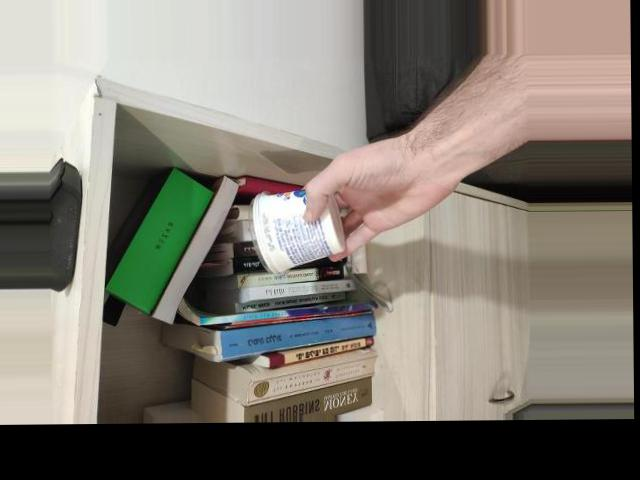cotage: (244, 179, 366, 278)
